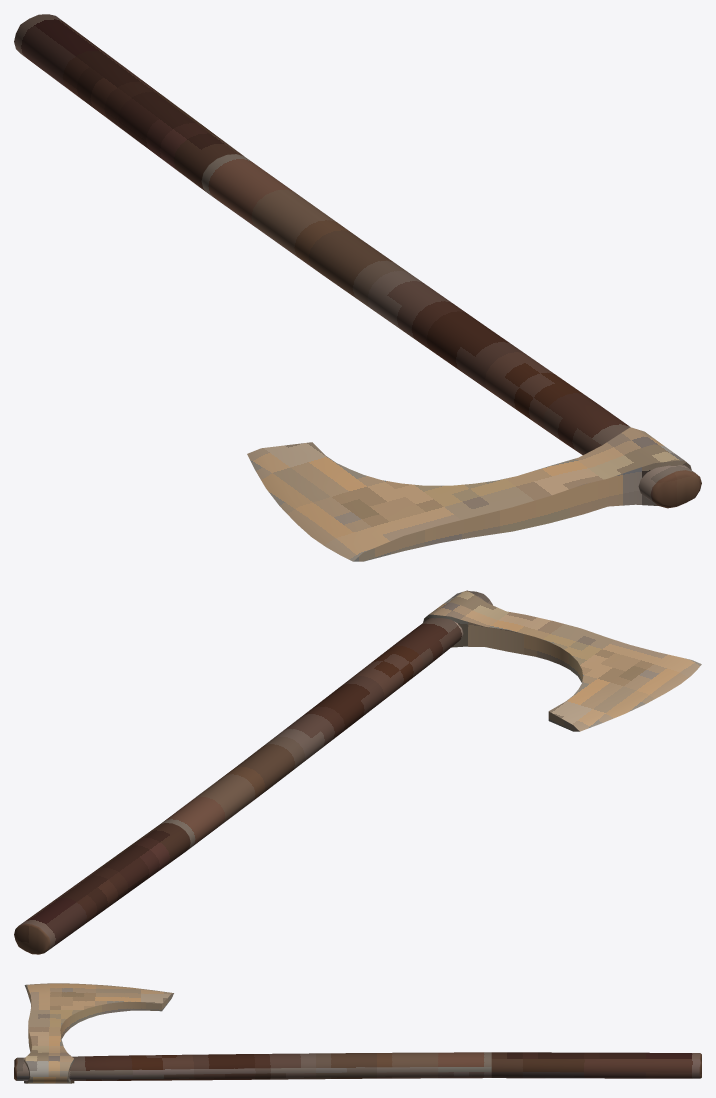
File: AxeBronze.fbx
3 views of the same model, one above another, from view 1: azimuth 30°, elevation 25°; view 2: azimuth 150°, elevation 25°; view 3: azimuth 270°, elevation 25° (orthographic). The views are drawn at different scales.
Visible parts, largest first — view 1: Viking_Axe; view 2: Viking_Axe; view 3: Viking_Axe.
Part boxes in pixels (box(x1,y1,x2,y2)): Viking_Axe: box(14, 14, 701, 561); Viking_Axe: box(14, 590, 701, 954); Viking_Axe: box(14, 983, 701, 1083).
Bounding box in the file's own units: 0.2832 × 0.0347 × 0.8795.
Materials: 1 (1 with a texture image).
